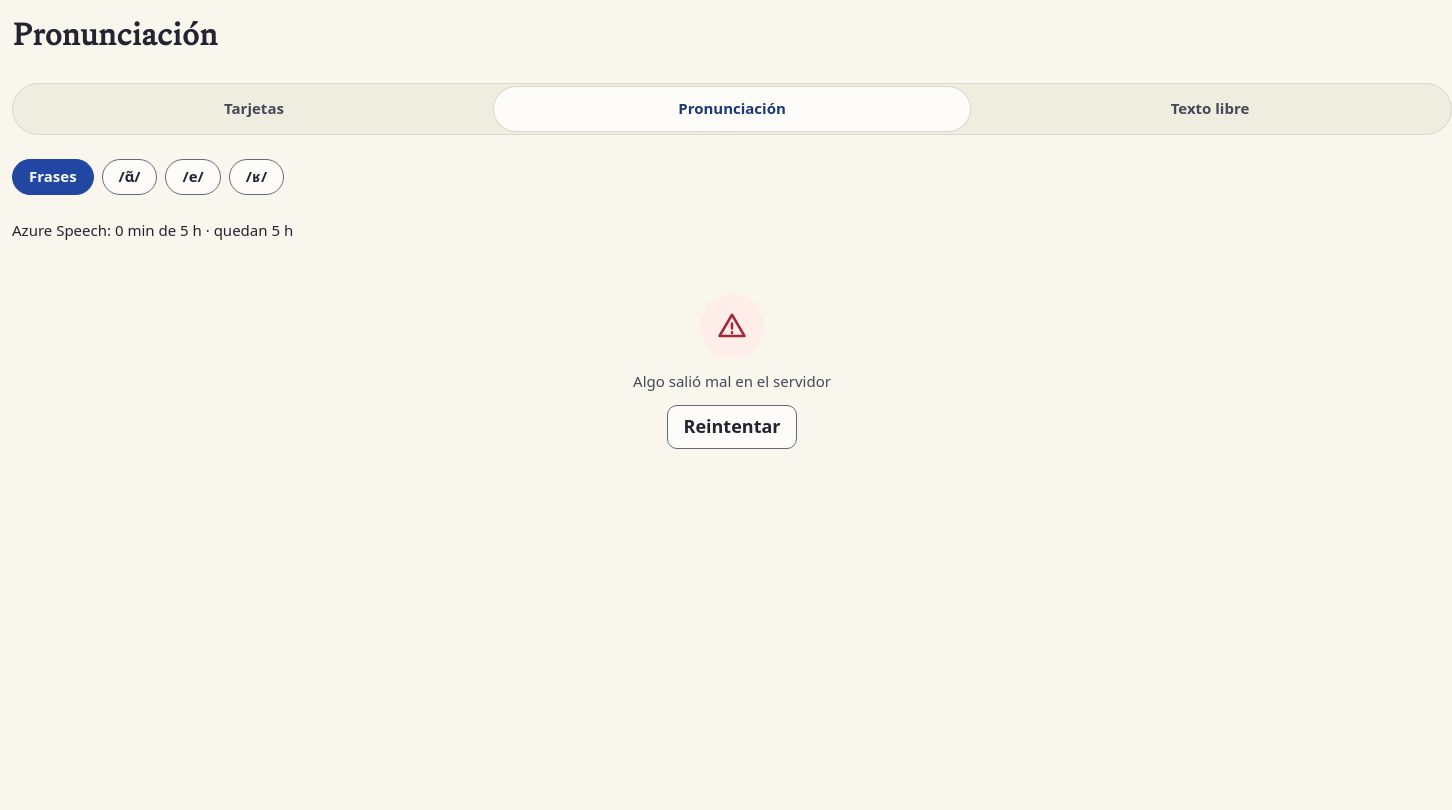
muestra carga, vacío y error con reintentar
Later steps or results of the test are not shown.
Expected: the text "Algo salió mal en el servidor" is shown, [633, 370, 831, 393]
Click the button "Reintentar" at (732, 427), box [666, 405, 798, 449]
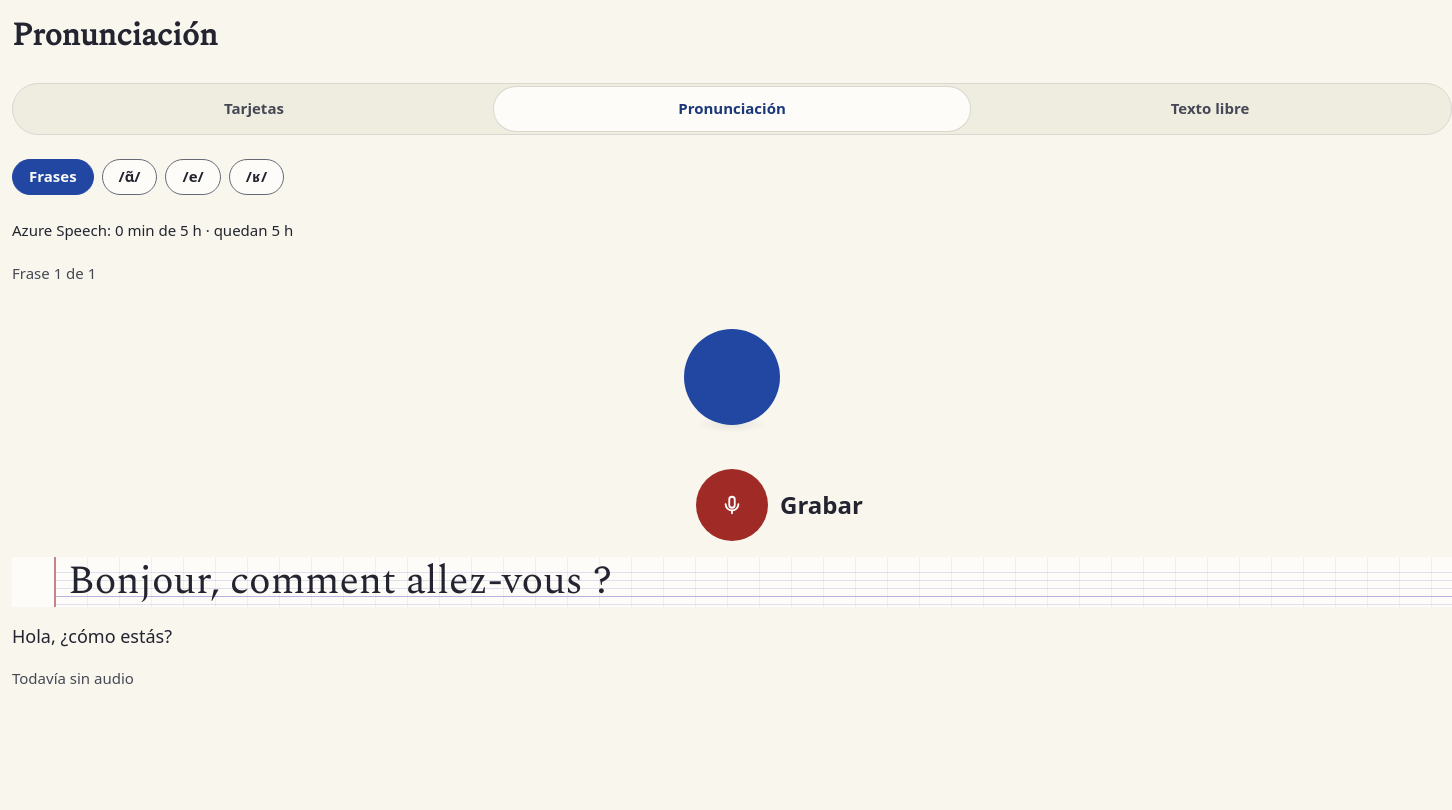
Expected: the text "Bonjour, comment allez-vous ?" is shown, [12, 557, 1451, 607]
